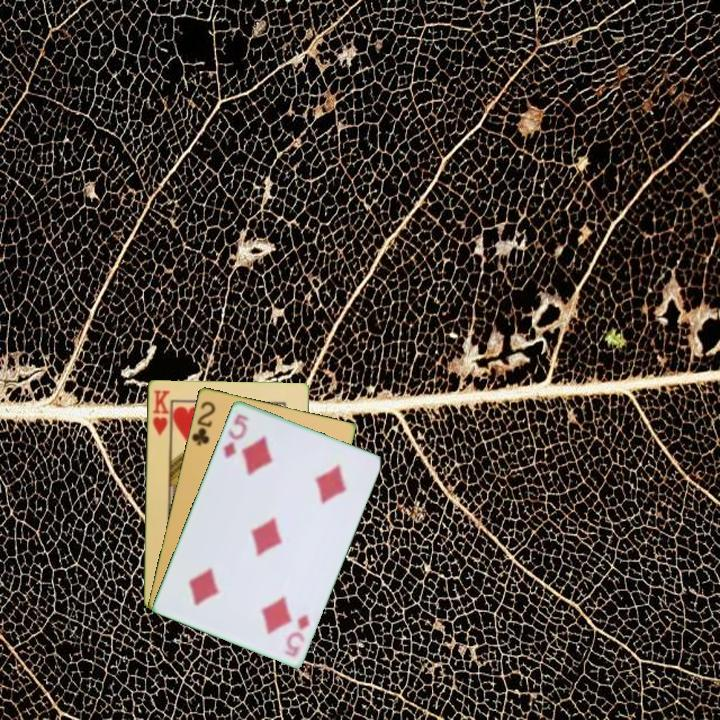2c: (188, 397, 218, 448)
5d: (220, 410, 252, 462), (281, 610, 313, 659)
Kh: (149, 386, 173, 442)
